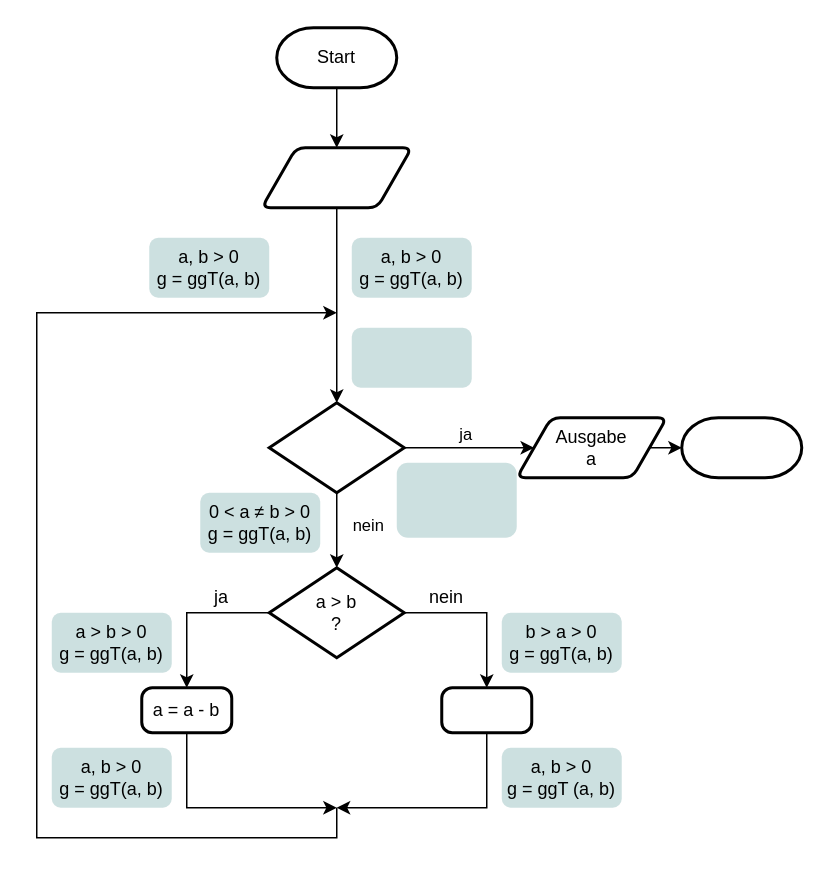
The diagram is 830 pixels wide and 876 high, and some of its shapes have lost their labels. Here are the shapes that lost their labels. From the top down, the centre of each, then its label:
At (336,177): "Eingabe a, b > 0".
At (411,357): "a, b > 0".
At (336,447): "a = b ?".
At (741,447): "Stopp".
At (456,499): "a = b > 0 g = ggT(a, b) g = a".
At (486,710): "b = b - a".
